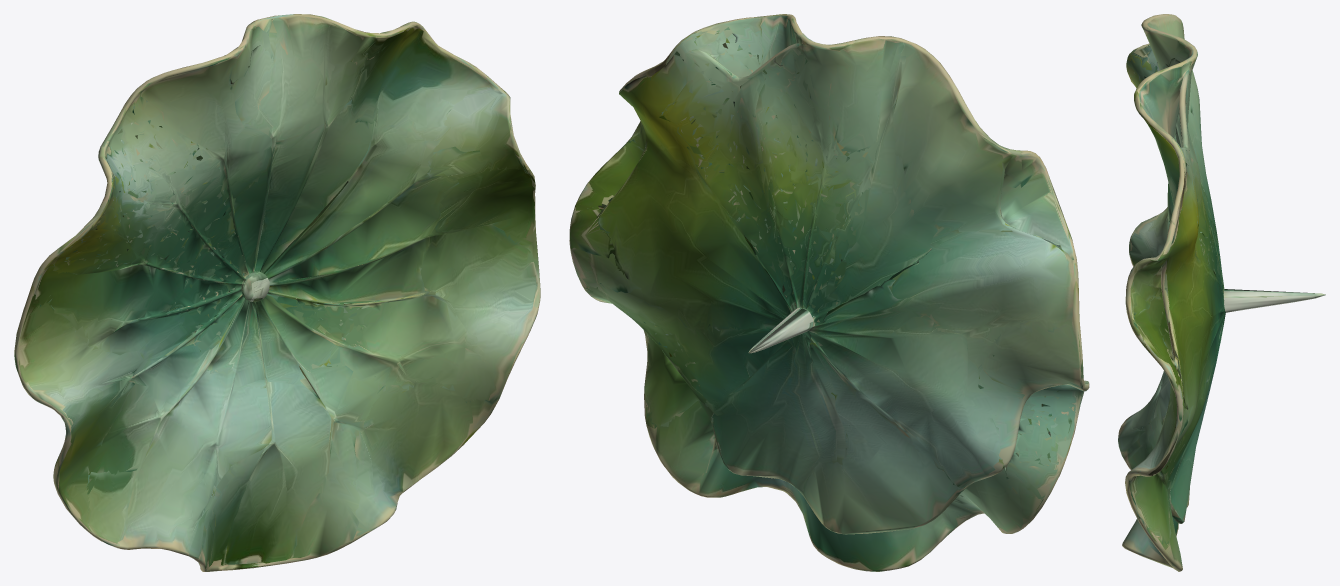
Rendered from lotusLeaf-compressed.glb.
3 views of the same model, side by side, from view 1: azimuth 30°, elevation 25°; view 2: azimuth 150°, elevation 25°; view 3: azimuth 270°, elevation 25° (orthographic). The views are drawn at different scales.
Parts seen in each view (by area): view 1: node_0; view 2: node_0; view 3: node_0.
Part boxes in pixels (box(x1,y1,x2,y2)): node_0: box(14, 14, 540, 571); node_0: box(569, 14, 1089, 571); node_0: box(1118, 14, 1325, 571).
Size of the model in its own units: 0.3999 by 0.3954 by 0.1493.
1 material, 1 textured.
